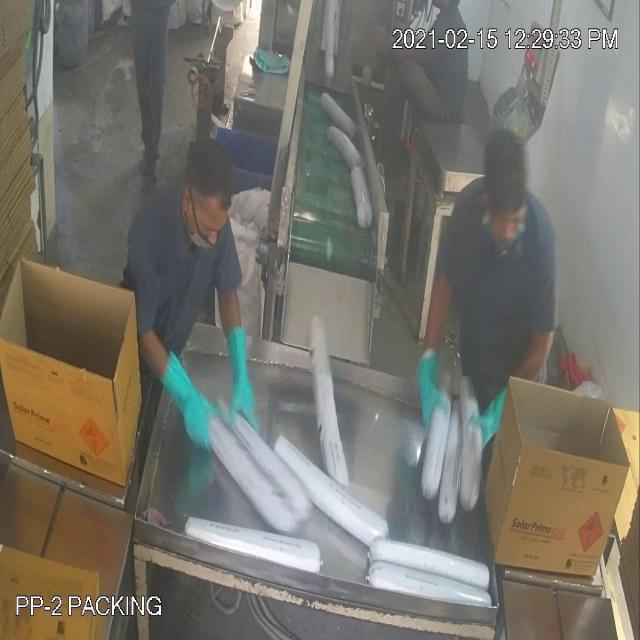Gloves: (42, 78, 496, 420)
